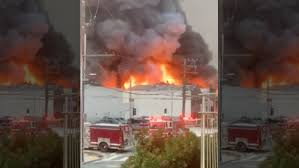smoke: (85, 1, 217, 82)
